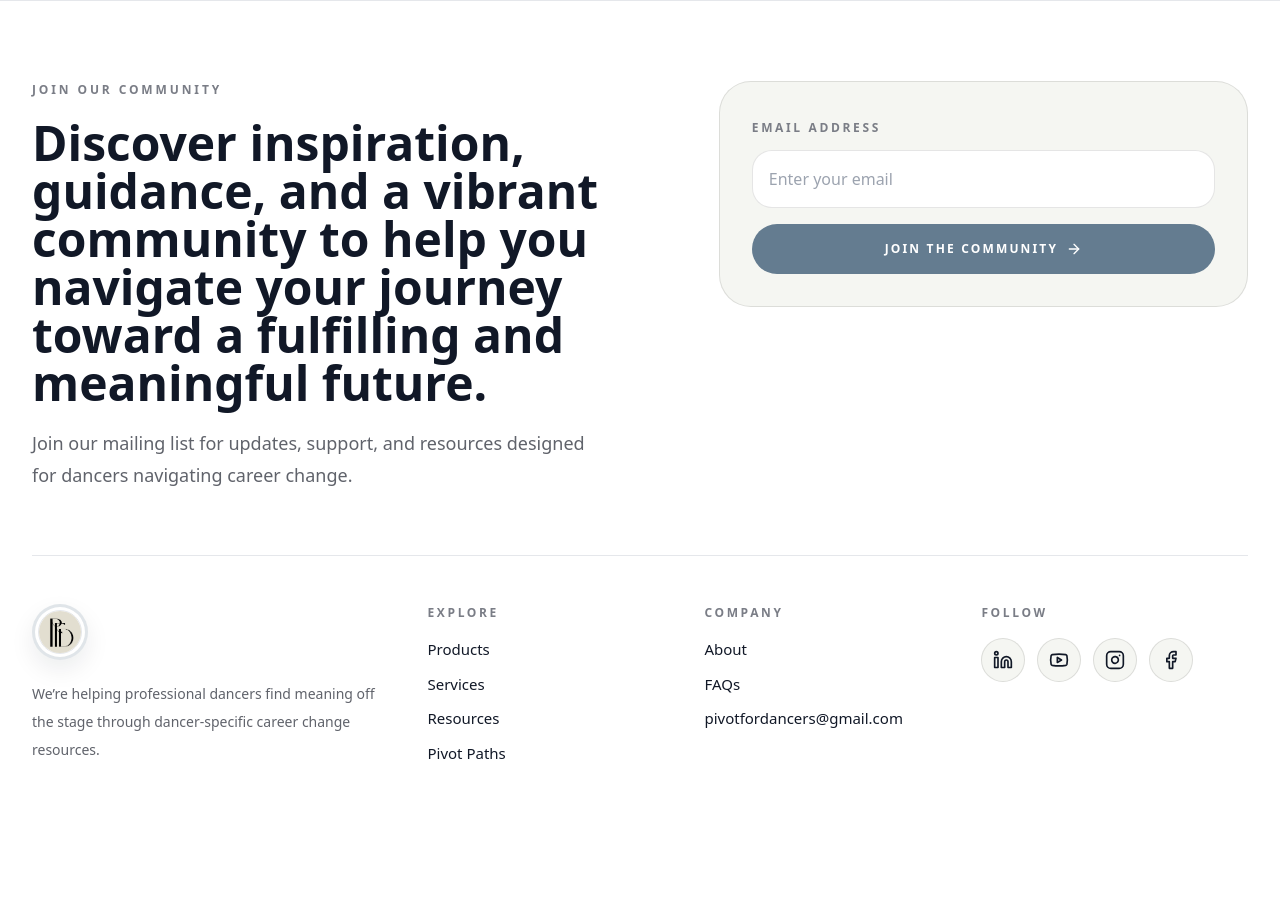
Test: shared site chrome › submits the footer community signup form
Type "dancer@example.com" into the field with placeholder "Enter your email".
click(983, 179); type("dancer@example.com")  # box [752,150,1215,208]
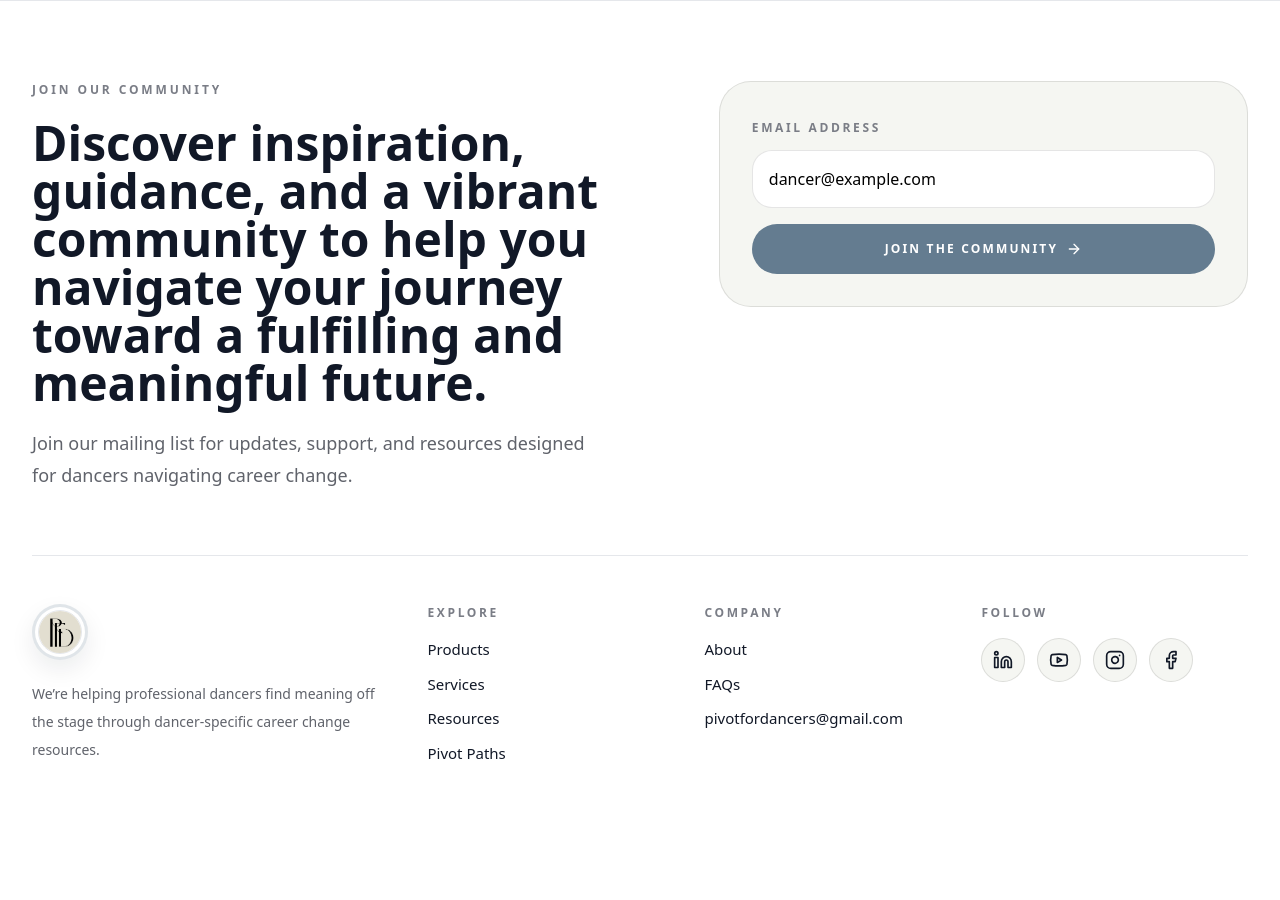
Click the button "Join the community".
click(983, 249)  # box [752,224,1215,274]
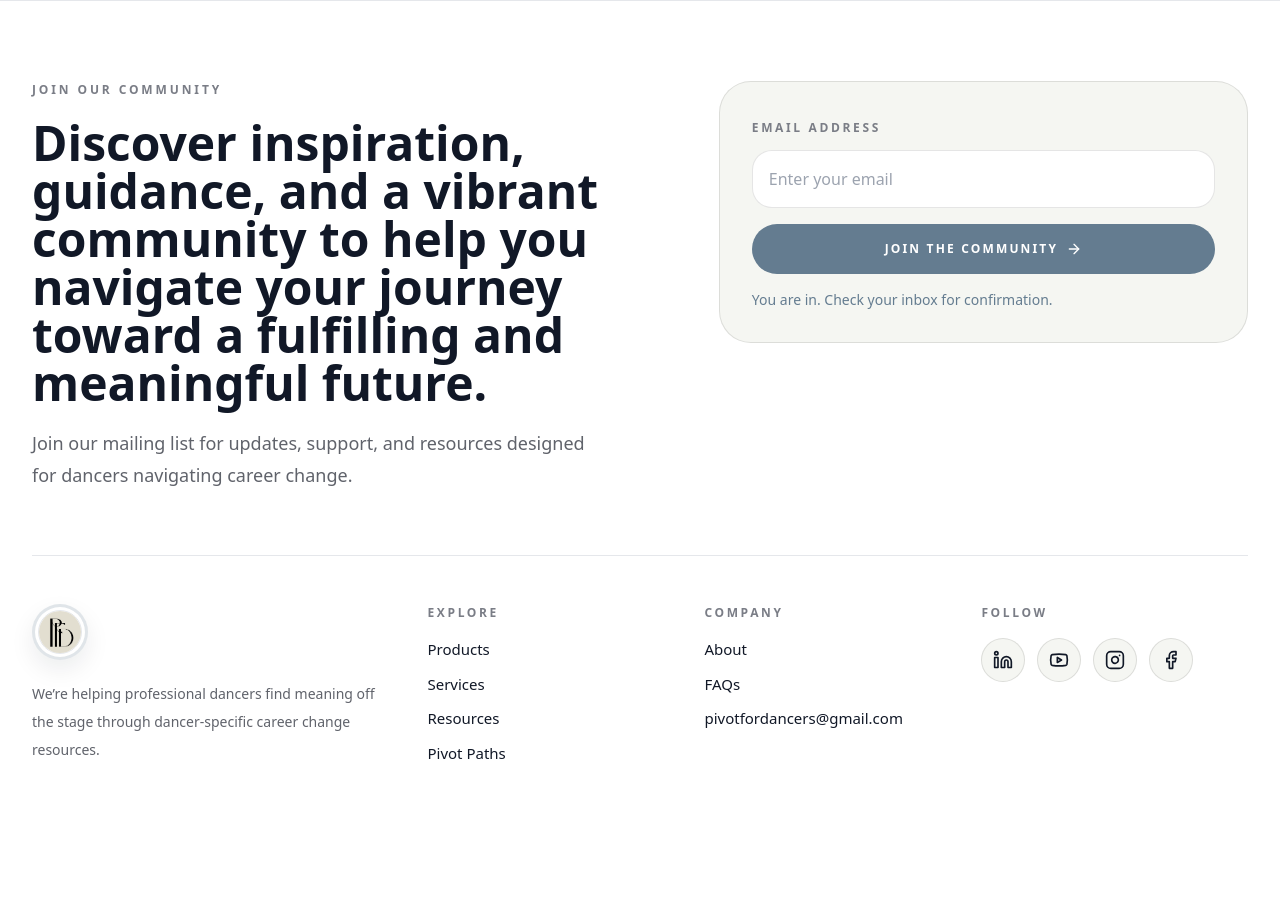
Check: the text "You are in. Check your inbox for confirmation." is shown, box [752,290,1053,309]
